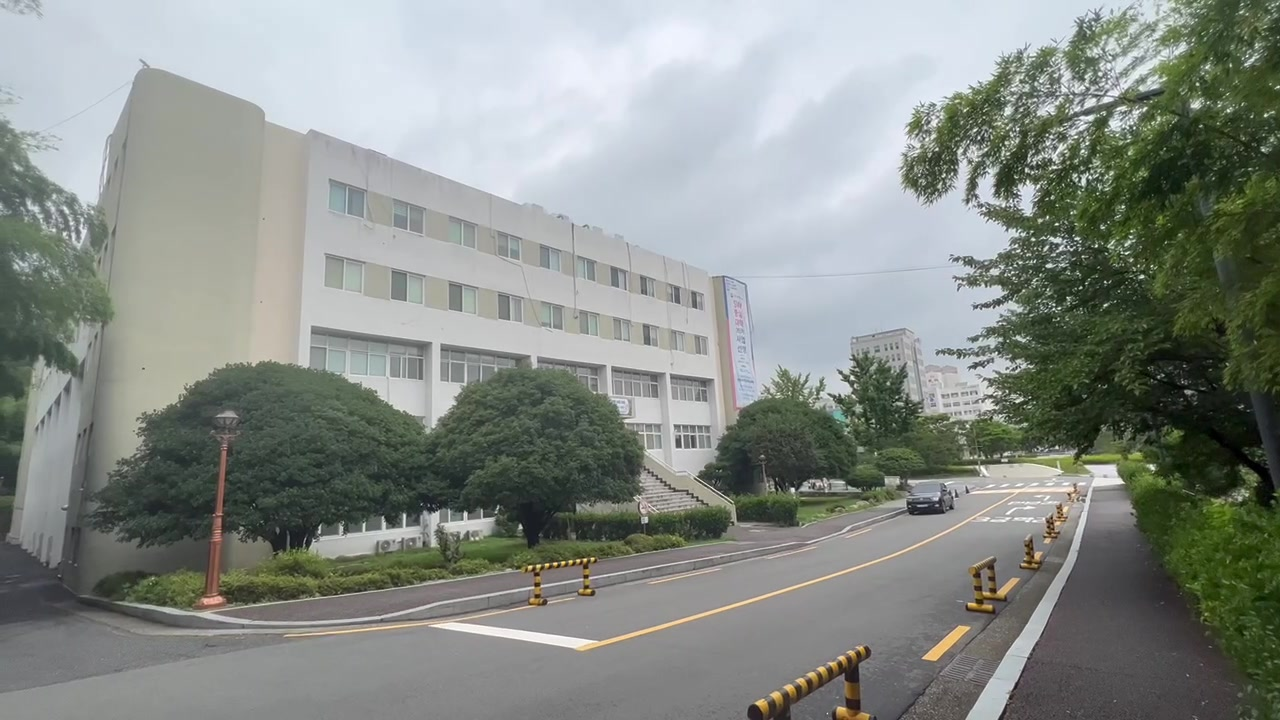low: (136, 78, 767, 358)
